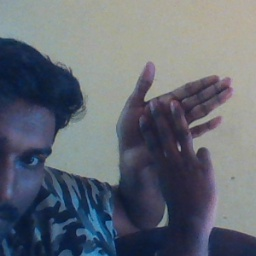M: (114, 60, 230, 209)
